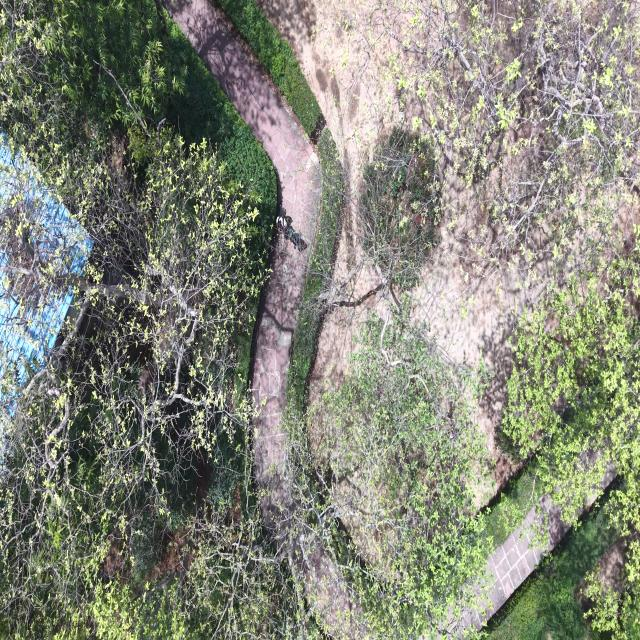DRY_AREA: (256, 0, 552, 507), (256, 0, 441, 298), (256, 0, 439, 283), (258, 0, 413, 277), (256, 0, 409, 273), (251, 239, 355, 636), (414, 175, 533, 504), (256, 0, 416, 217), (251, 240, 309, 521), (252, 241, 308, 523), (252, 241, 308, 516), (460, 496, 568, 628), (462, 496, 569, 628), (462, 496, 569, 627), (470, 496, 568, 627), (470, 528, 542, 627), (488, 530, 541, 612), (593, 536, 624, 592)
PATHWAYS: (163, 0, 320, 534), (252, 240, 309, 527), (462, 496, 569, 627)
ROOFTOP_BUILDING: (0, 142, 91, 384)
VEGETATION_TREE: (0, 1, 639, 639), (312, 1, 639, 637), (2, 3, 313, 635), (0, 2, 304, 637), (2, 151, 248, 631), (454, 2, 639, 626), (440, 2, 639, 540), (286, 133, 487, 636), (307, 134, 488, 636), (394, 1, 639, 291), (3, 1, 275, 254), (313, 288, 487, 636), (487, 250, 639, 623), (502, 250, 639, 599), (502, 251, 639, 520), (162, 11, 276, 251), (486, 487, 617, 639), (287, 128, 343, 412), (220, 0, 319, 133), (359, 131, 441, 287), (586, 471, 639, 637), (487, 566, 597, 639), (585, 532, 639, 639), (483, 462, 542, 546)
